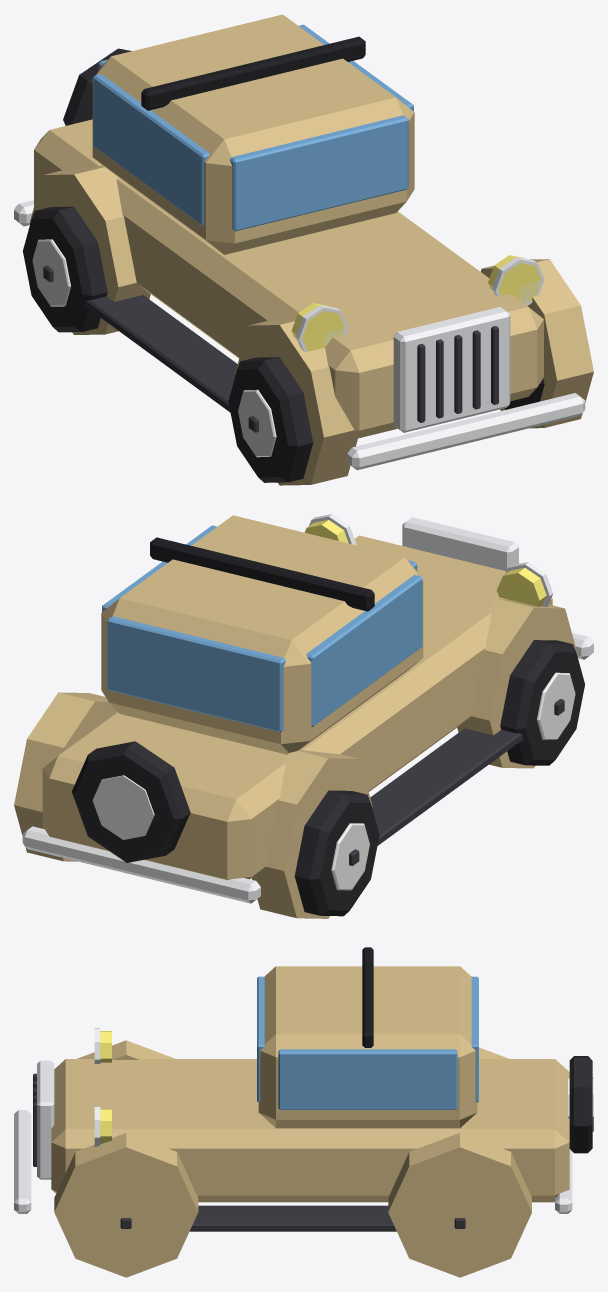
File: TanClassicCar.fbx
3 views of the same model, one above another, from view 1: azimuth 30°, elevation 25°; view 2: azimuth 150°, elevation 25°; view 3: azimuth 270°, elevation 25° (orthographic). The views are drawn at different scales.
Parts seen in each view (by area): view 1: TanClassicCar, TanClassicCar_WheelFR, TanClassicCar_WheelBR; view 2: TanClassicCar, TanClassicCar_WheelBR, TanClassicCar_WheelFR; view 3: TanClassicCar.
Boxes of the visible parts, x1,y1,x2,y2 form: TanClassicCar: (14,14,593,485); TanClassicCar_WheelFR: (228,357,313,482); TanClassicCar_WheelBR: (23,206,107,332); TanClassicCar: (14,514,593,918); TanClassicCar_WheelBR: (294,790,379,916); TanClassicCar_WheelFR: (500,640,584,765); TanClassicCar: (14,947,593,1277).
Bounding box in the file's own units: 4.92 × 4.4 × 10.08.
1 material, 1 textured.
